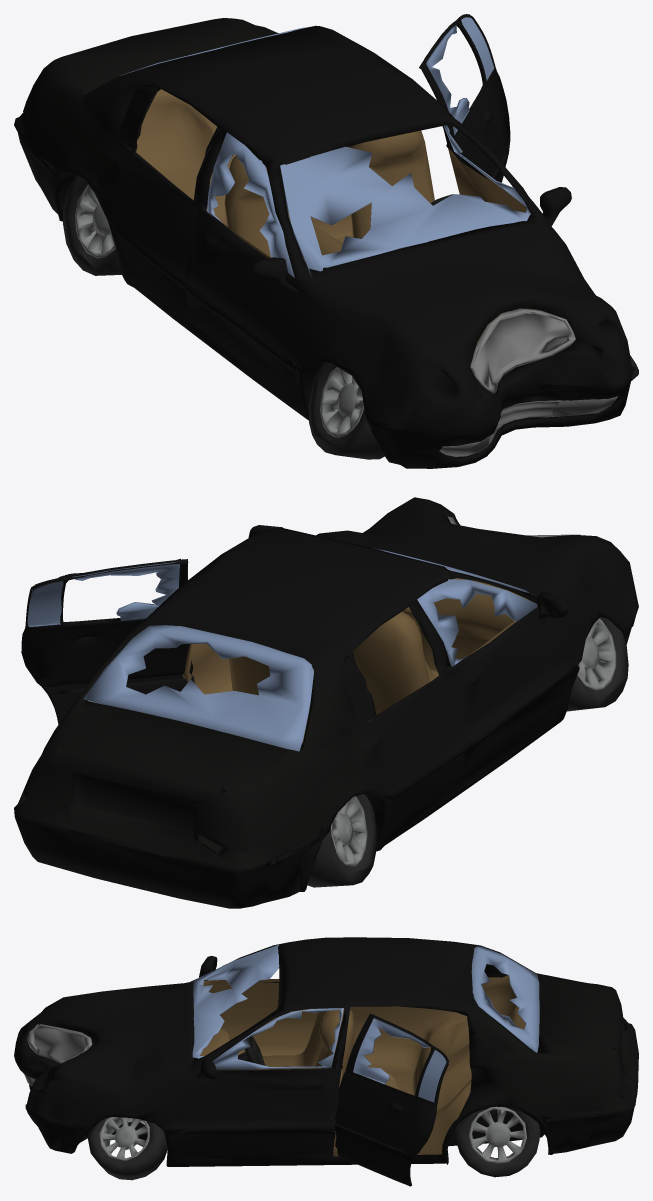
The model's file is Car_Wreck.fbx.
The picture shows the model from 3 angles, top to bottom: view 1: azimuth 30°, elevation 25°; view 2: azimuth 150°, elevation 25°; view 3: azimuth 270°, elevation 25°; orthographic projection. The views are drawn at different scales.
Parts seen in each view (by area): view 1: Car, Car_door; view 2: Car, Car_door; view 3: Car, Car_door.
Boxes of the visible parts, x1,y1,x2,y2 form: Car: [14, 18, 638, 468]; Car_door: [419, 14, 510, 182]; Car: [14, 497, 638, 908]; Car_door: [21, 558, 194, 724]; Car: [14, 937, 638, 1180]; Car_door: [334, 1013, 448, 1186].
Bounding box in the file's own units: 371 × 194 × 672.
